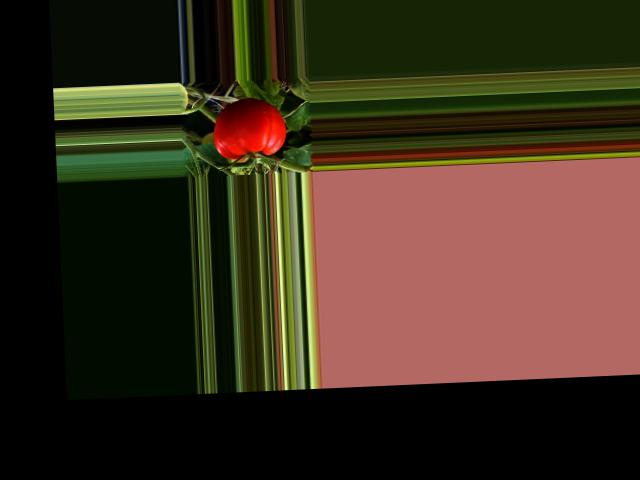tomato: (211, 96, 286, 159)
